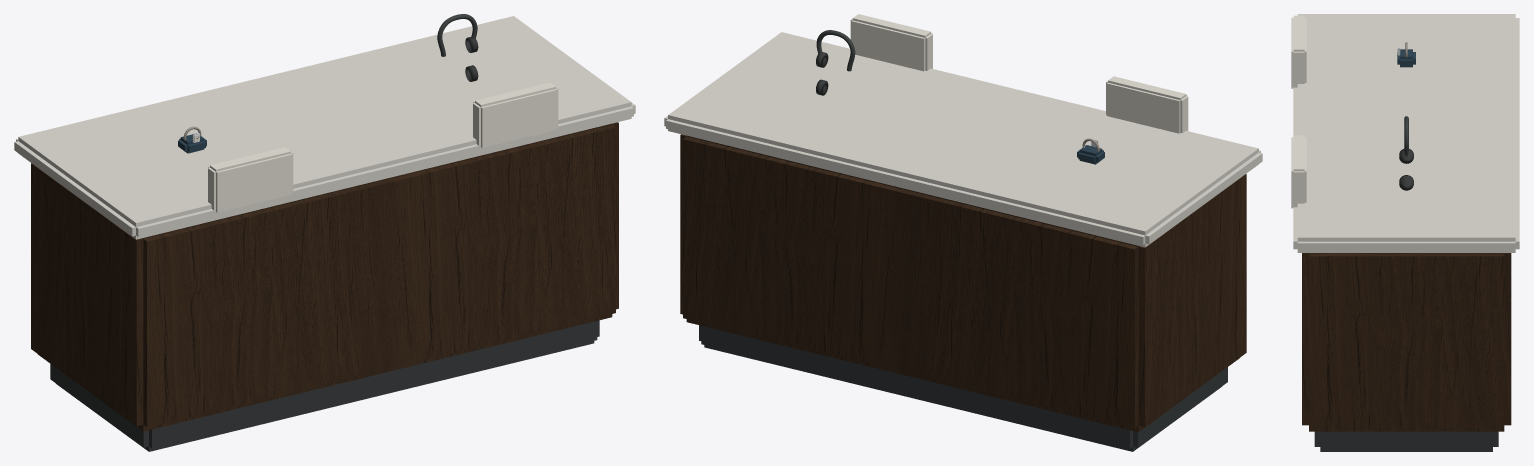
Rendered from compact_accessory_v294.glb.
3 views of the same model, side by side, from view 1: azimuth 30°, elevation 25°; view 2: azimuth 150°, elevation 25°; view 3: azimuth 270°, elevation 25° (orthographic). The views are drawn at different scales.
Visible parts, largest first — view 1: compact_accessory_v294_CC0_Smoked_walnut, compact_accessory_v294_Honed_solid_surface, compact_accessory_v294_Anodised_graphite, compact_accessory_v294_Paper_page_edges; view 2: compact_accessory_v294_CC0_Smoked_walnut, compact_accessory_v294_Honed_solid_surface, compact_accessory_v294_Anodised_graphite, compact_accessory_v294_Paper_page_edges; view 3: compact_accessory_v294_Honed_solid_surface, compact_accessory_v294_CC0_Smoked_walnut, compact_accessory_v294_Anodised_graphite, compact_accessory_v294_Paper_page_edges, compact_accessory_v294_V23_shoe_rubber.001, compact_accessory_v294_V24_velvet_blue.
Part boxes in pixels (x1,y1,x2,y2): compact_accessory_v294_CC0_Smoked_walnut: (31, 122, 618, 431); compact_accessory_v294_Honed_solid_surface: (14, 16, 635, 239); compact_accessory_v294_Anodised_graphite: (50, 320, 599, 451); compact_accessory_v294_Paper_page_edges: (208, 82, 558, 212); compact_accessory_v294_CC0_Smoked_walnut: (680, 134, 1246, 432); compact_accessory_v294_Honed_solid_surface: (664, 32, 1262, 247); compact_accessory_v294_Anodised_graphite: (699, 325, 1227, 451); compact_accessory_v294_Paper_page_edges: (850, 14, 1188, 133); compact_accessory_v294_Honed_solid_surface: (1293, 14, 1519, 252); compact_accessory_v294_CC0_Smoked_walnut: (1302, 253, 1511, 431); compact_accessory_v294_Anodised_graphite: (1314, 431, 1498, 451); compact_accessory_v294_Paper_page_edges: (1291, 15, 1306, 208); compact_accessory_v294_V23_shoe_rubber.001: (1399, 149, 1413, 190); compact_accessory_v294_V24_velvet_blue: (1397, 49, 1415, 67).
Size of the model in its own units: 1.9 by 1.14 by 0.8075.
Materials: 11 (1 with a texture image).
